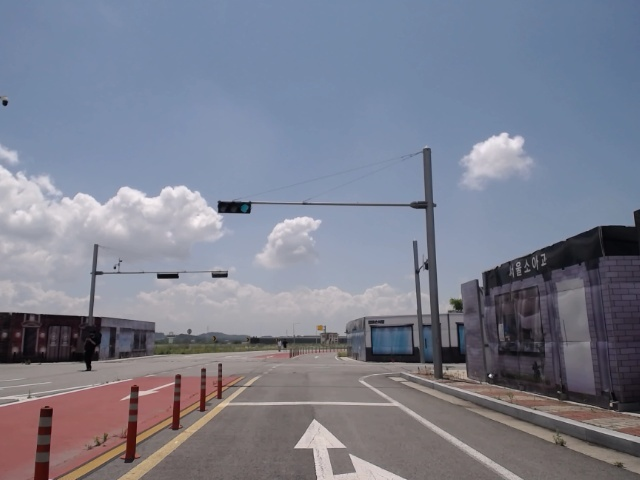green_3: (219, 202, 250, 213)
